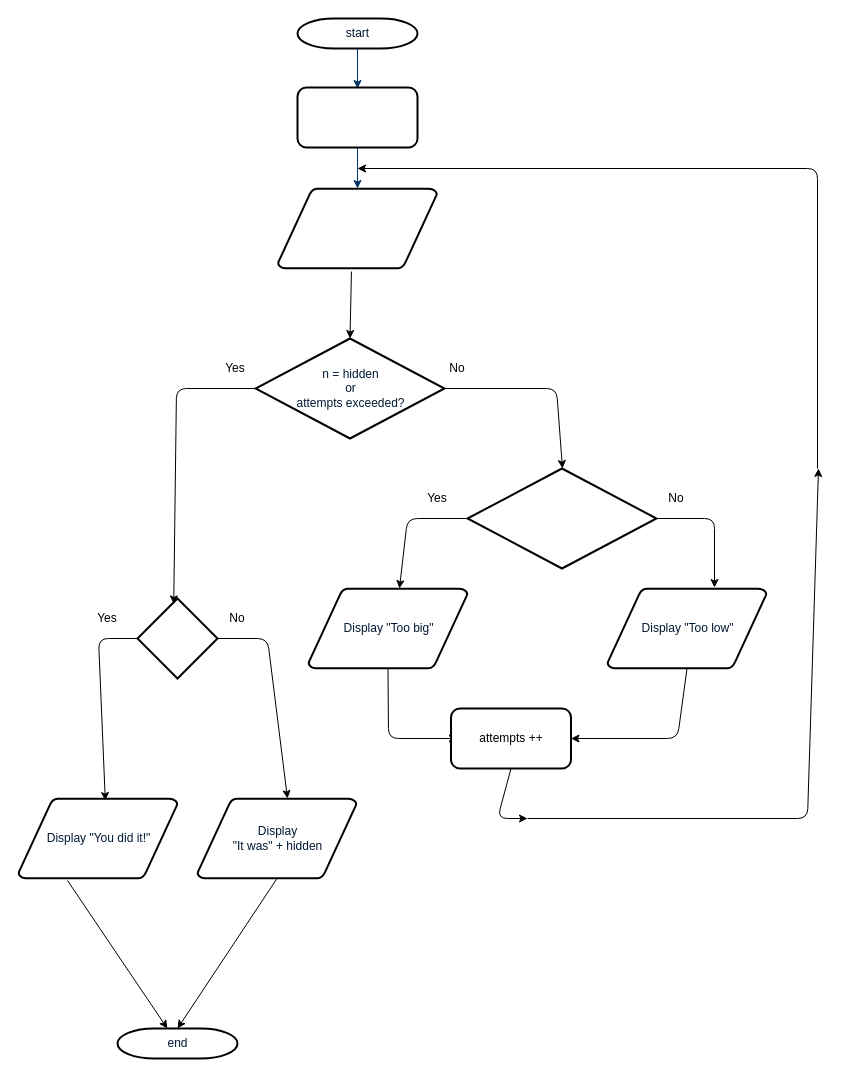
Image size: 844x1076. Some labels were removed from this diagram. The shapes that lost their labels are listed below. From the top down, each one's centre as x and y in pixels, then its label:
At (357,117): "hidden = random attempts = 0".
At (357,228): "ask for n".
At (561,518): "n > hidden?".
At (177,638): "n = hidden?".
